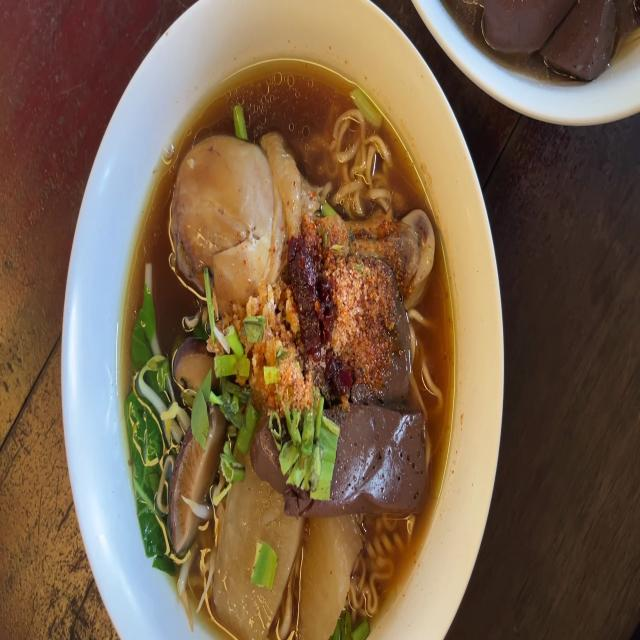noodle: (134, 73, 443, 640)
